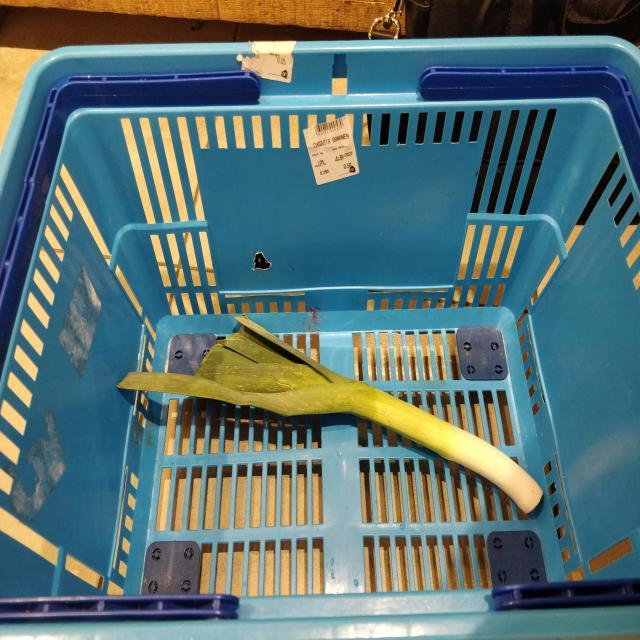Leek: (116, 317, 544, 513)
